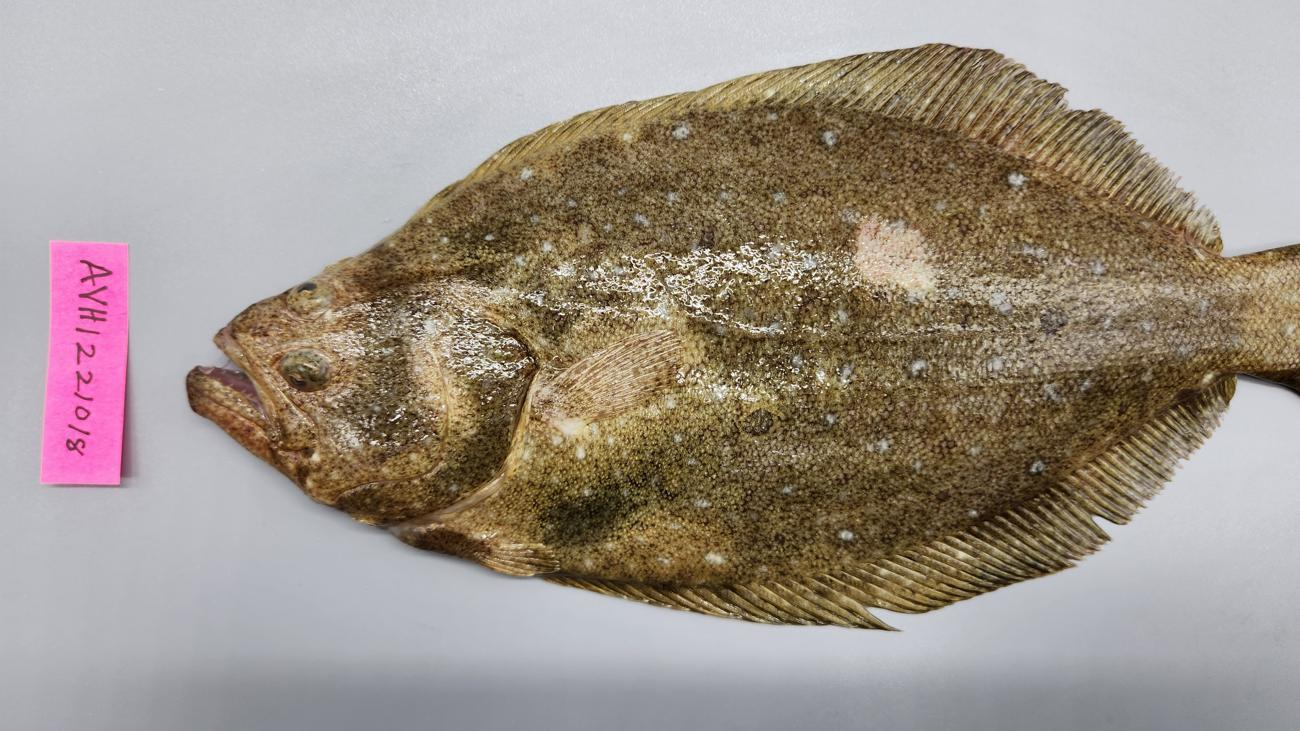VIDYU: (563, 507, 773, 585), (833, 202, 963, 312)
